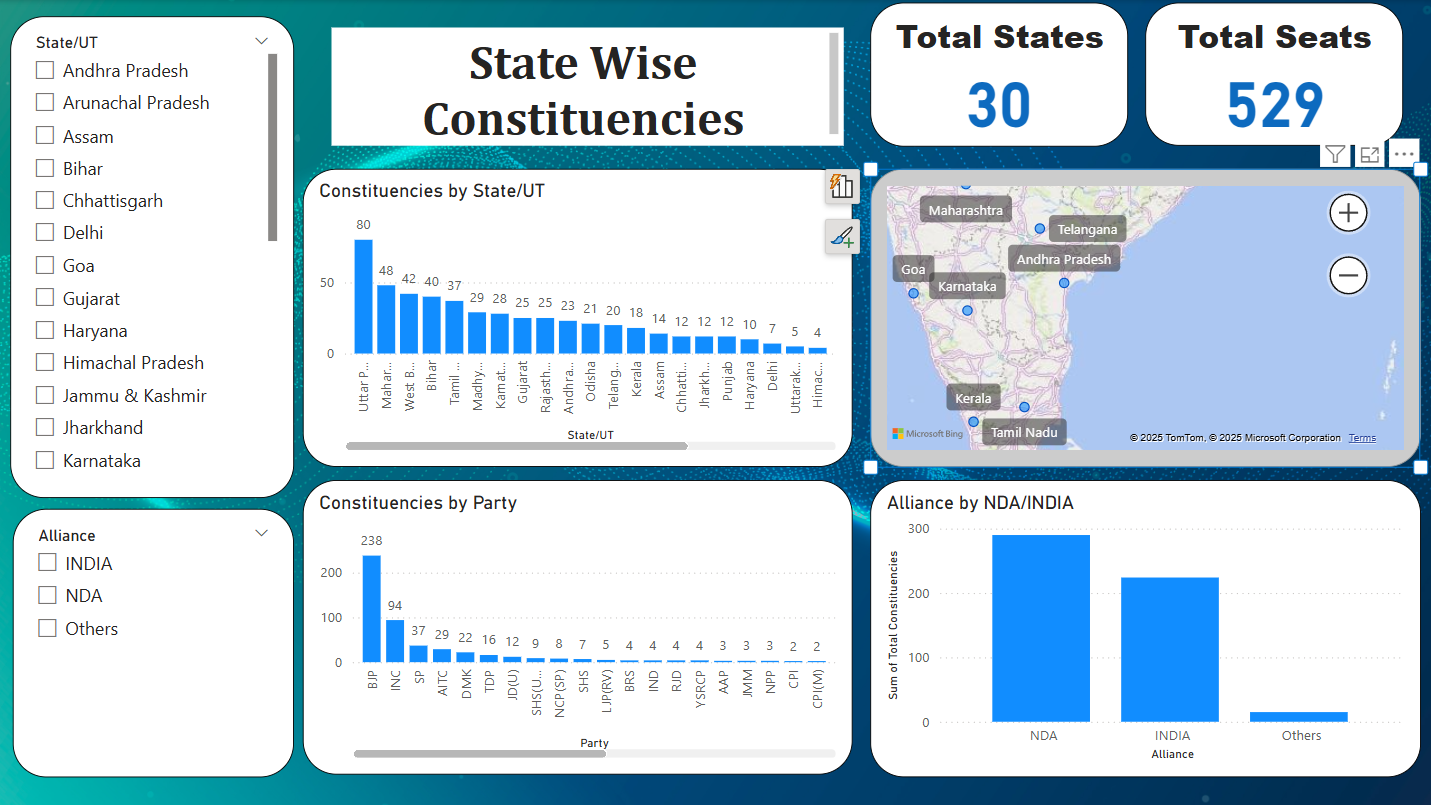

Layout of this report page (visuals, bound fields, positions):
{"tool":"powerbi","page":{"name":"Page 1","canvas":[1280,720],"ordinal":0},"visuals":[{"type":"card","title":"Total States","fields":{"Values":["Count(constituency.State/UT)"]},"box":[777.8,2.2,230,128.9],"z":0},{"type":"card","title":"Total Seats","fields":{"Values":["Sum(constituency.Total Constituencies)"]},"box":[1024.4,2.2,230,127.8],"z":1000},{"type":"map","fields":{"Category":["constituency.State/UT"]},"box":[777.8,151.1,492.2,266.7],"z":2000},{"type":"clusteredColumnChart","title":"Constituencies by State/UT","fields":{"Category":["constituency.State/UT"],"Y":["Sum(constituency.Total Constituencies)"]},"box":[271.1,151.1,491.1,266.7],"z":3000},{"type":"clusteredColumnChart","title":"Alliance by NDA/INDIA","fields":{"Category":["constituency.Alliance"],"Y":["Sum(constituency.Total Constituencies)"]},"box":[777.8,428.9,492.2,265.6],"z":4000},{"type":"clusteredColumnChart","title":"Constituencies by Party","fields":{"Y":["Sum(constituency.Total Constituencies)"],"Category":["constituency.Party"]},"box":[271.1,428.9,491.1,263.3],"z":5000},{"type":"slicer","fields":{"Values":["constituency.State/UT"]},"box":[10,14.4,253.3,430],"z":6000},{"type":"slicer","fields":{"Values":["constituency.Alliance"]},"box":[12.2,454.4,251.1,240],"z":7000},{"type":"textbox","box":[296.7,24.4,457.8,105.6],"z":8000}]}

Visuals, with their boxes in screenshot pixels (x1, y1, x2, y2), scaled from the page's 1280x720 canvas onto the 1431x805 screenshot:
"Total States" card: <box>870,2,1127,147</box>
"Total Seats" card: <box>1145,2,1402,145</box>
map - constituency.State/UT: <box>870,169,1420,467</box>
"Constituencies by State/UT" clusteredColumnChart: <box>303,169,852,467</box>
"Alliance by NDA/INDIA" clusteredColumnChart: <box>870,480,1420,776</box>
"Constituencies by Party" clusteredColumnChart: <box>303,480,852,774</box>
slicer - constituency.State/UT: <box>11,16,294,497</box>
slicer - constituency.Alliance: <box>14,508,294,776</box>
textbox: <box>332,27,844,145</box>
